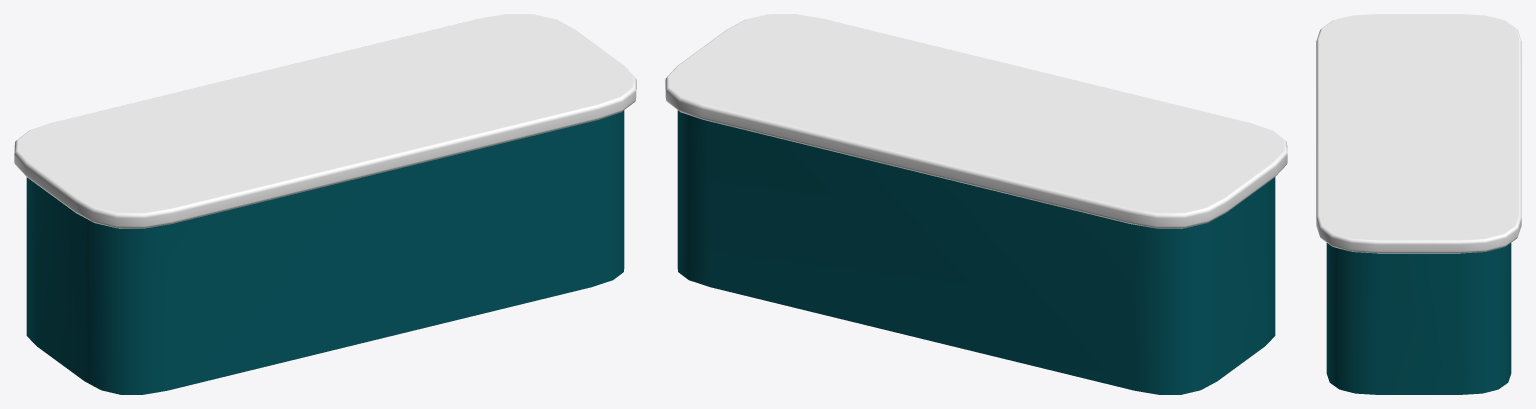
The model's file is Counter.fbx.
The picture shows the model from 3 angles, left to right: view 1: azimuth 30°, elevation 25°; view 2: azimuth 150°, elevation 25°; view 3: azimuth 270°, elevation 25°; orthographic projection. The views are drawn at different scales.
Parts seen in each view (by area): view 1: Counter; view 2: Counter; view 3: Counter.
Part boxes in pixels (x1,y1,x2,y2): Counter: (14,14,636,394); Counter: (665,14,1287,394); Counter: (1316,14,1521,394).
Bounding box in the file's own units: 3.68 × 1.19 × 1.4.
